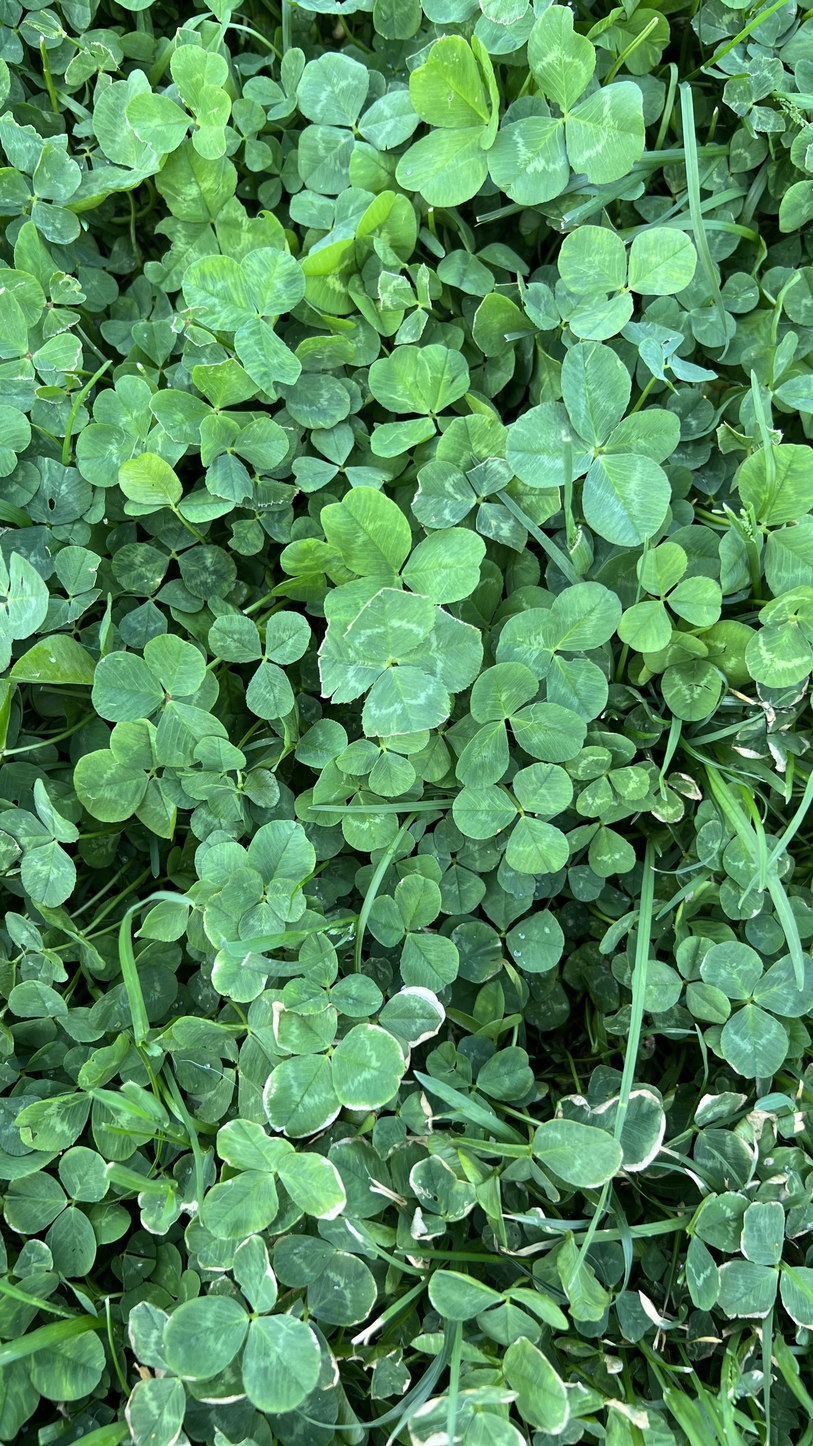4-Leaf-Clovers: (194, 242, 308, 539), (332, 584, 416, 879)
